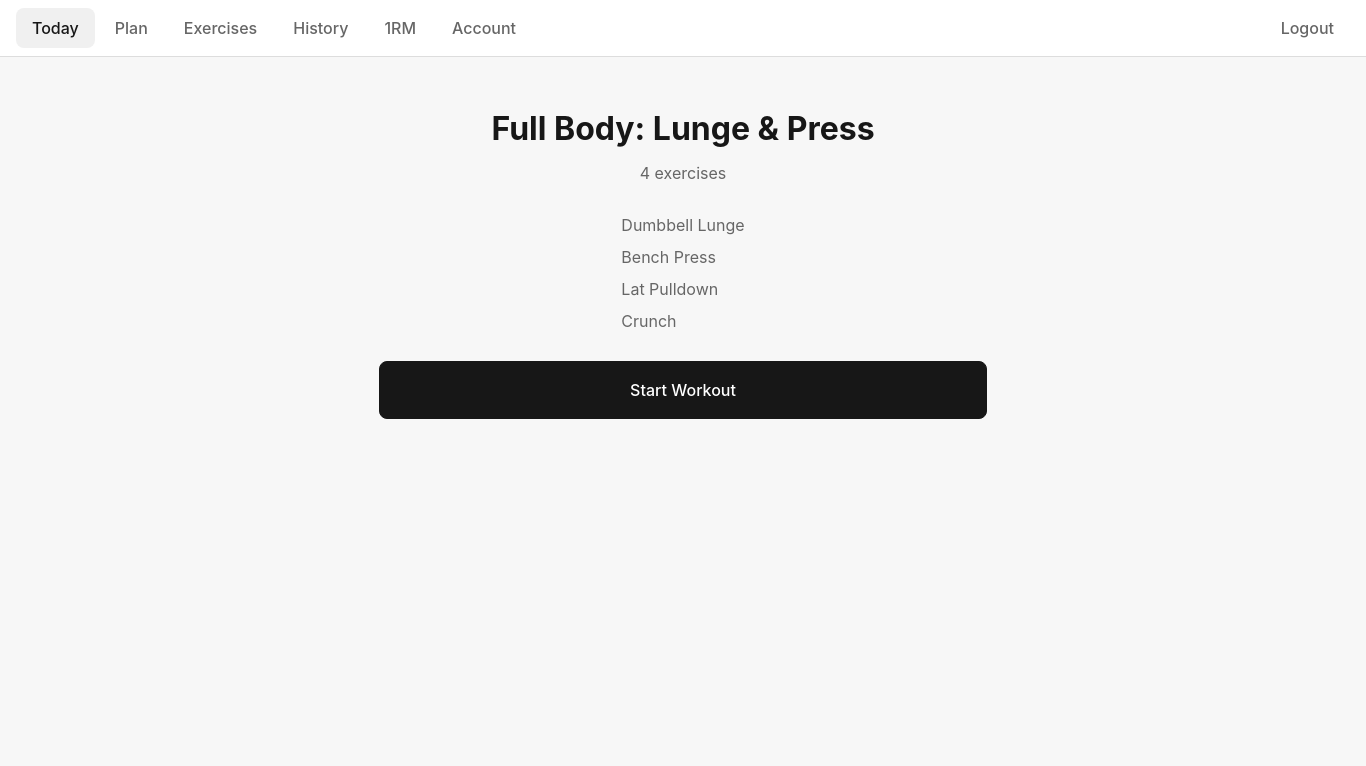
Test: useGymTracker actions › starts a workout with zero pre-created sets per exercise (one idle Start button each)
Click the button "Start Workout": (683, 390) [379, 361, 987, 419]
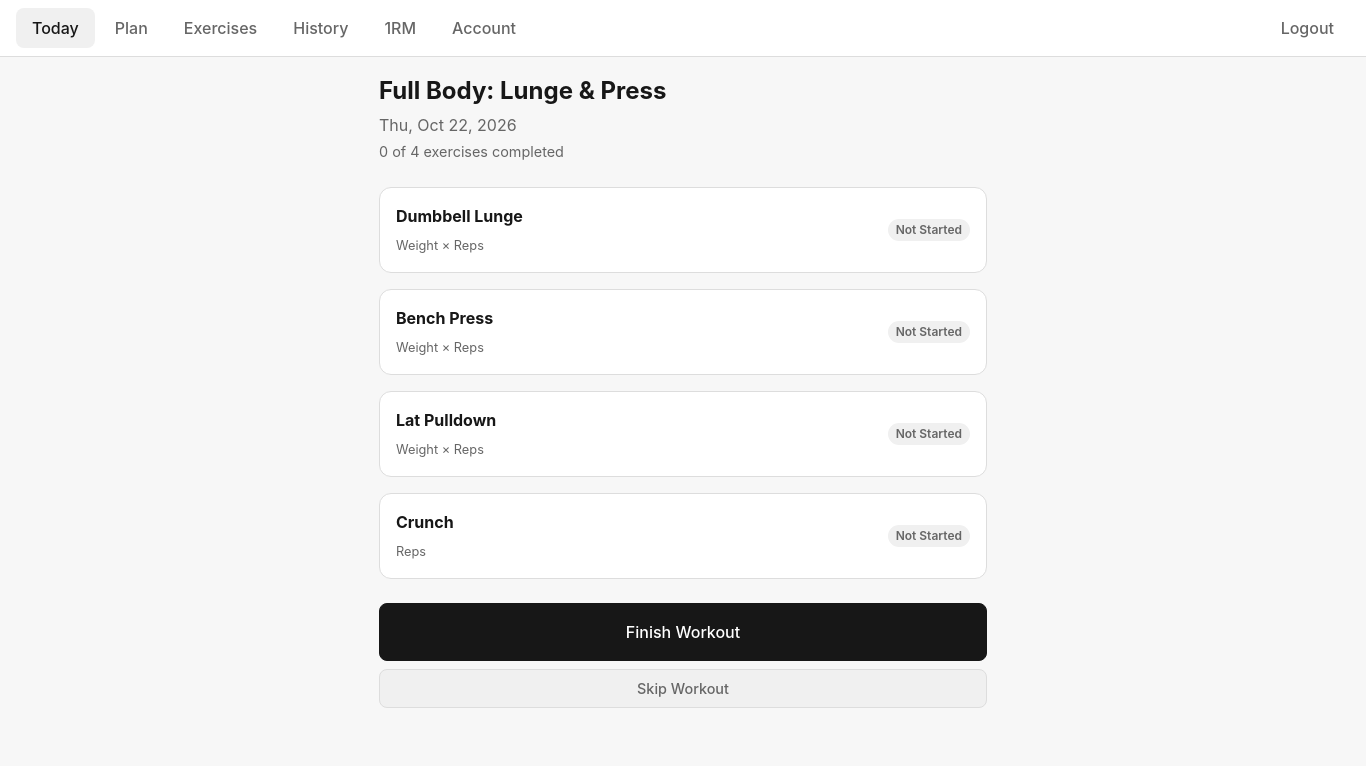
Click the element with class "exercise-card-header" that starts with "Dumbbell Lunge": (459, 216) [396, 206, 970, 253]
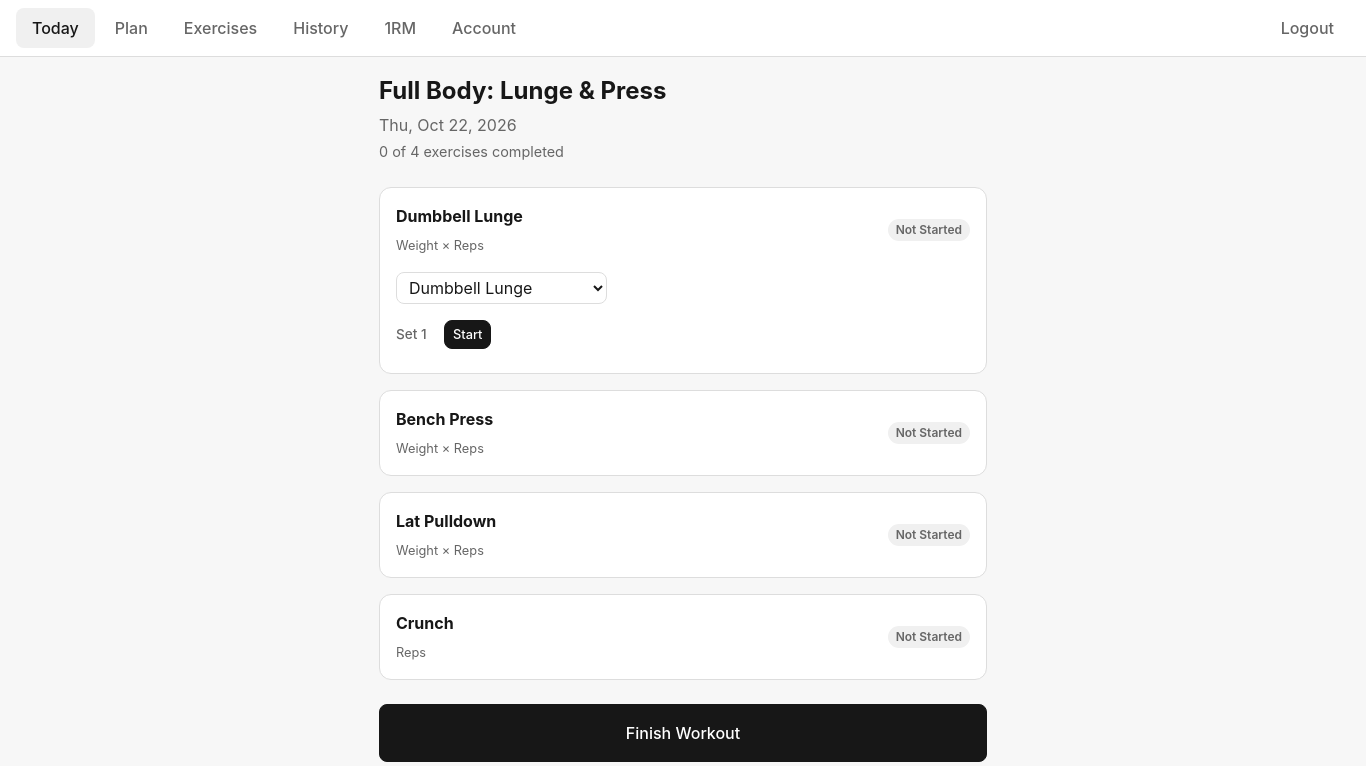
Click the element with class "exercise-card-header" that starts with "Bench Press": (445, 419) [396, 409, 970, 456]
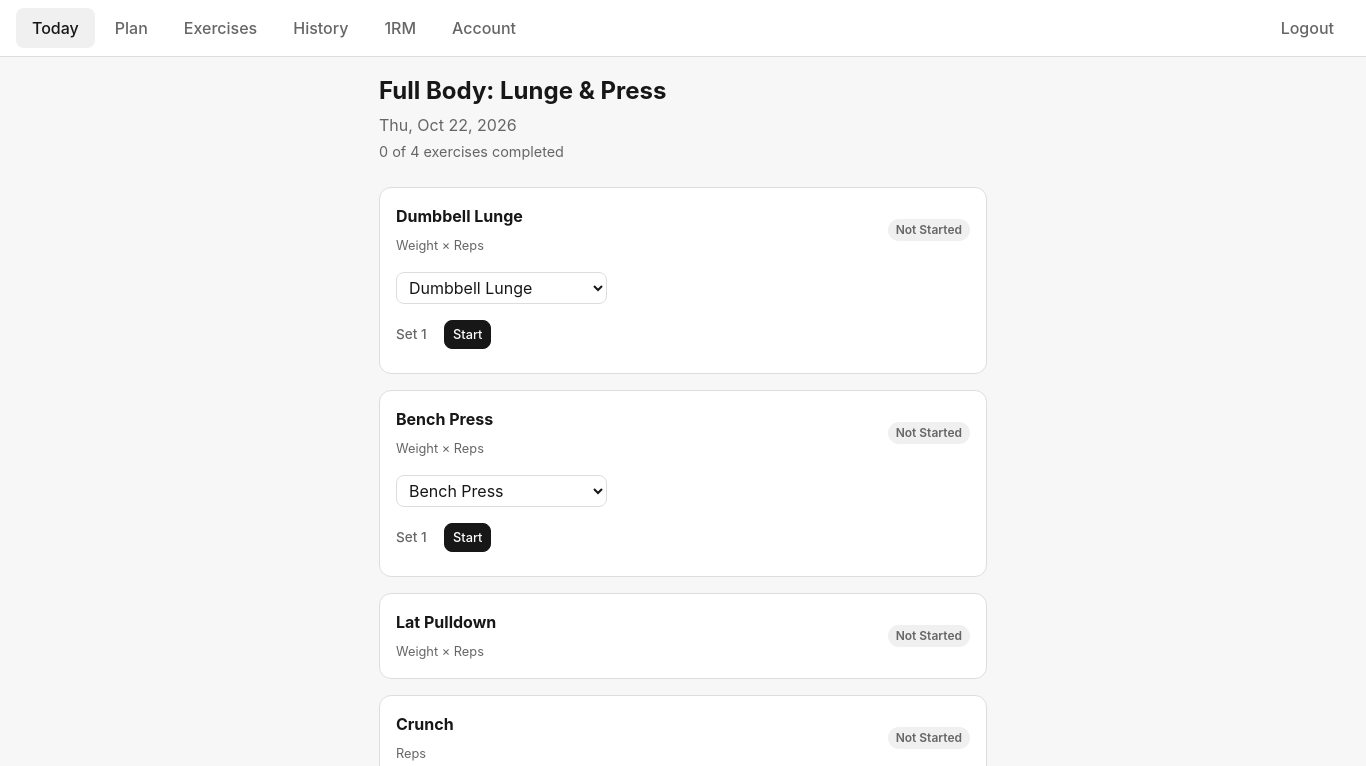
Click the element with class "exercise-card-header" that starts with "Lat Pulldown": (446, 622) [396, 612, 970, 659]
(page scrolled)
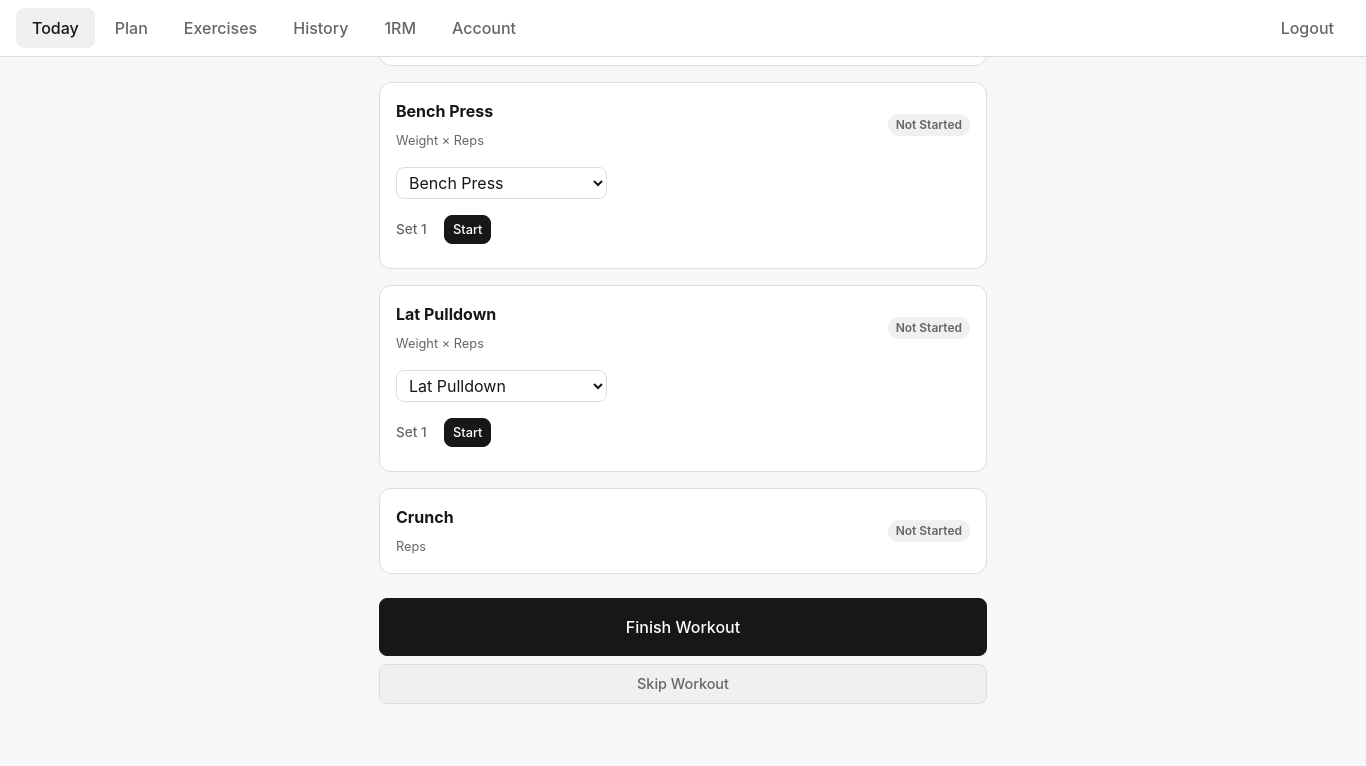
Click the element with class "exercise-card-header" showing "Crunch Reps Not Started": (425, 517) [396, 507, 970, 554]
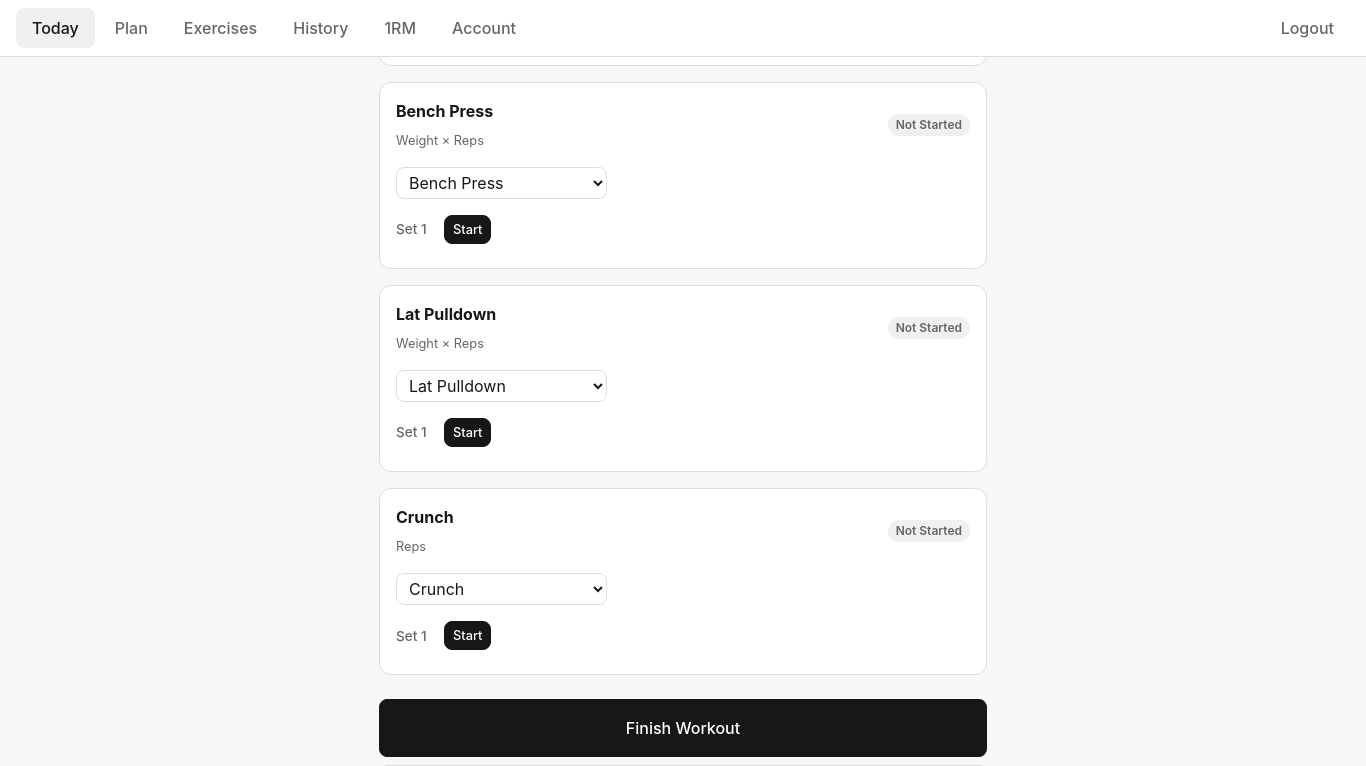
Expected: the number of buttons "Start" is 4, [444, 12, 492, 41]; [444, 215, 492, 244]; [444, 418, 492, 447]; [444, 621, 492, 650]
